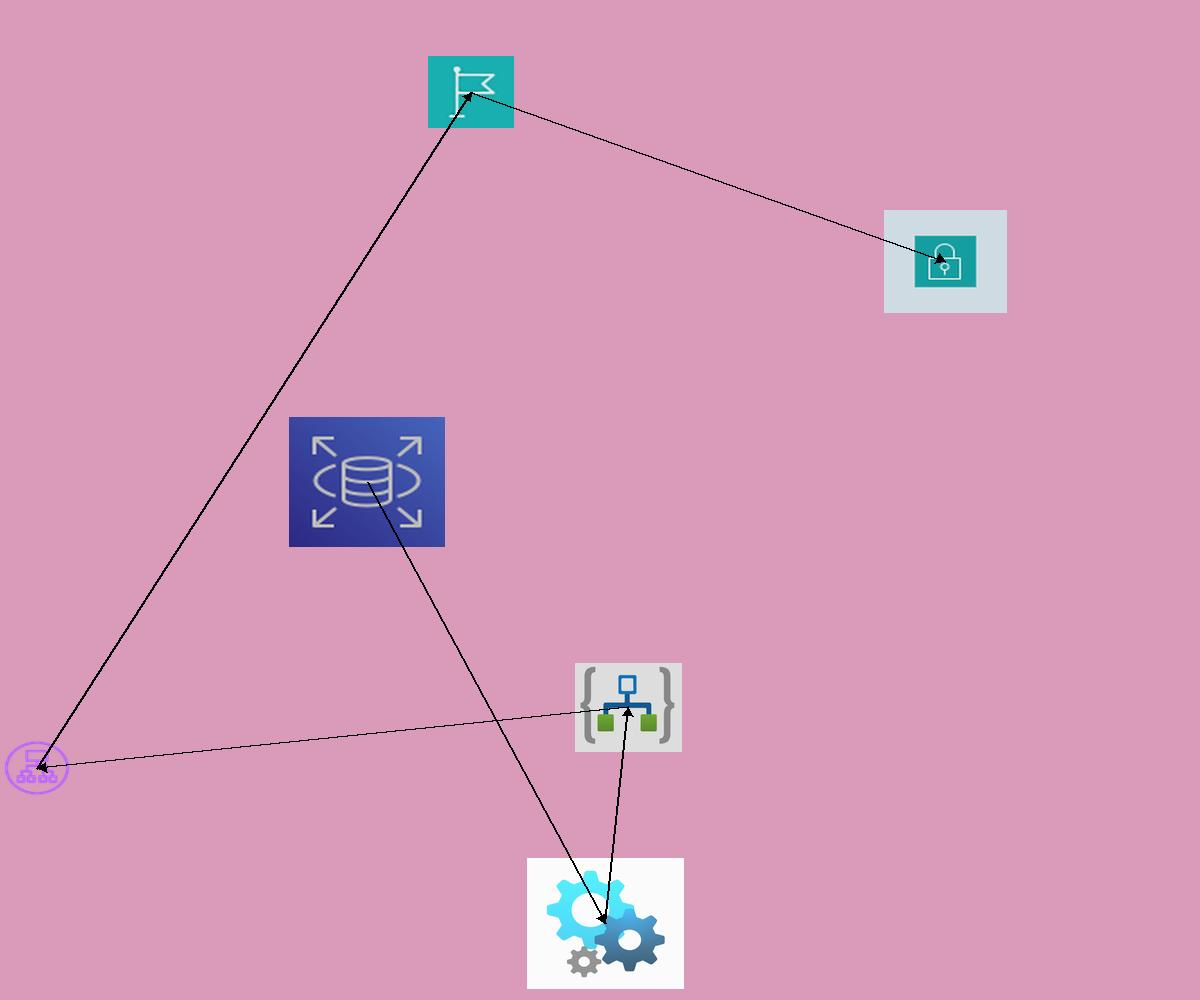AWS-Private-subnet: (884, 210, 1007, 313)
AWS-RDS: (289, 417, 445, 547)
AWS-Region: (428, 56, 514, 128)
AWS-Res_Elastic-Load-Balancing_Application-Load-Balancer: (2, 739, 72, 797)
Azure_api: (527, 858, 684, 989)
Azure_integration-204-Logic-Apps: (575, 663, 682, 752)
